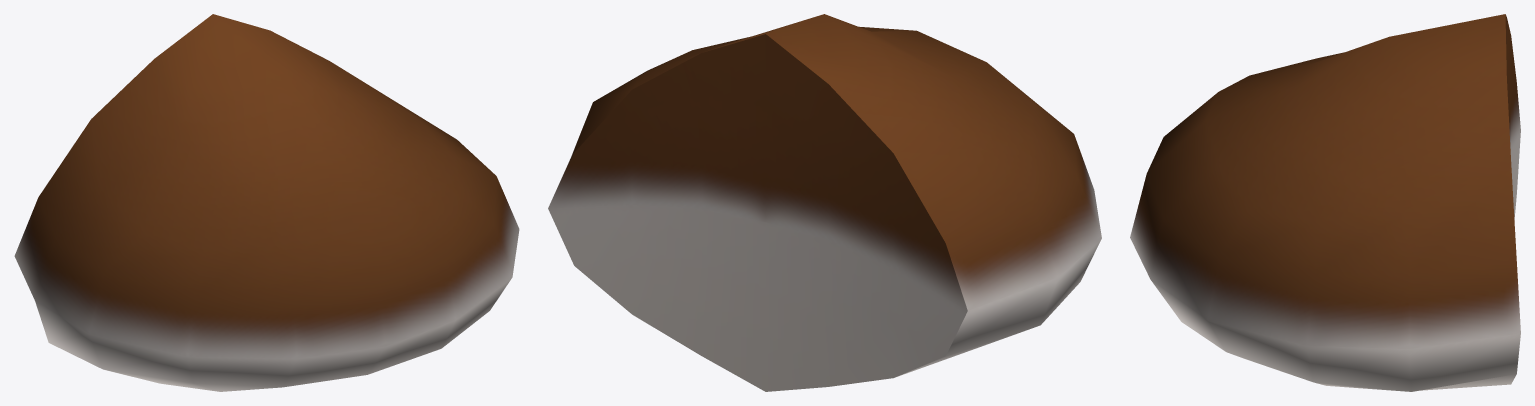
Rendered from Artists_Conk_Small.fbx.
3 views of the same model, side by side, from view 1: azimuth 30°, elevation 25°; view 2: azimuth 150°, elevation 25°; view 3: azimuth 270°, elevation 25° (orthographic). The views are drawn at different scales.
Parts seen in each view (by area): view 1: Artists_Conk_Small; view 2: Artists_Conk_Small; view 3: Artists_Conk_Small.
Boxes of the visible parts, x1,y1,x2,y2 form: Artists_Conk_Small: (14, 14, 519, 391); Artists_Conk_Small: (548, 14, 1101, 391); Artists_Conk_Small: (1130, 14, 1520, 391).
Size of the model in its own units: 8.43 by 5.91 by 5.91.
